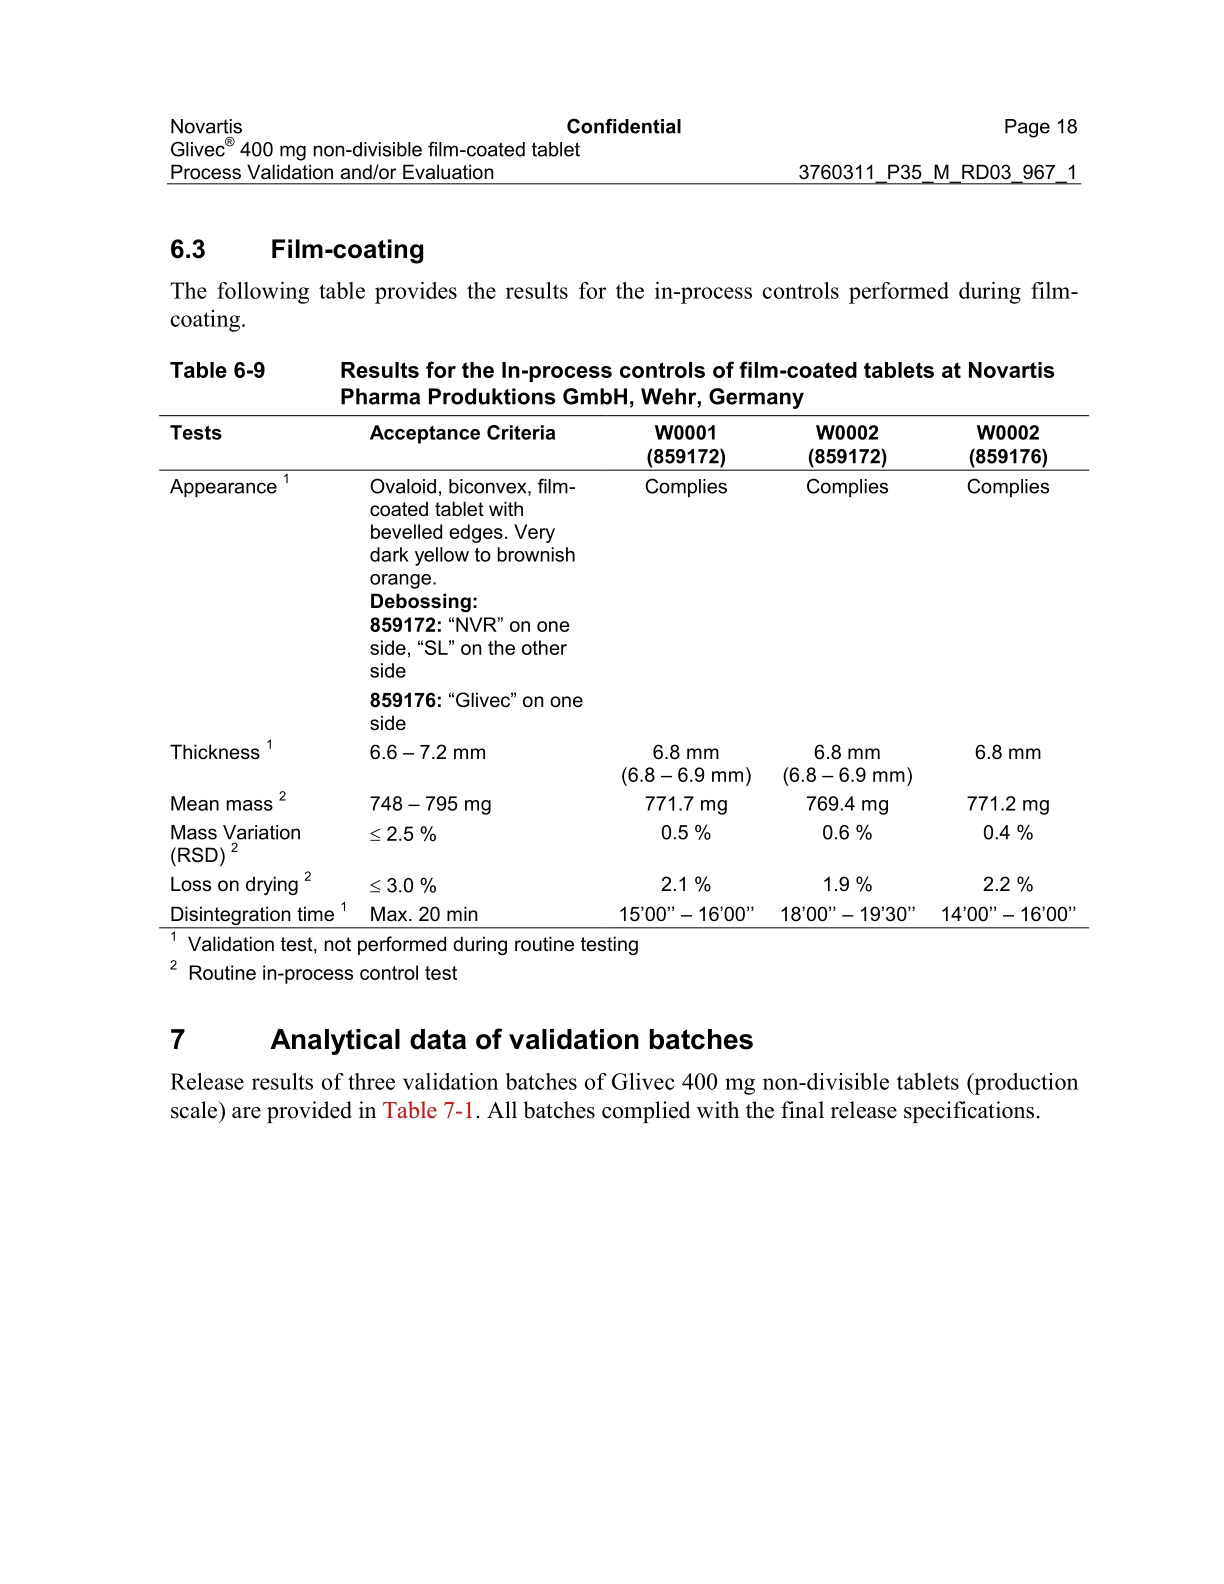partial_lined: (158, 413, 1093, 931)
